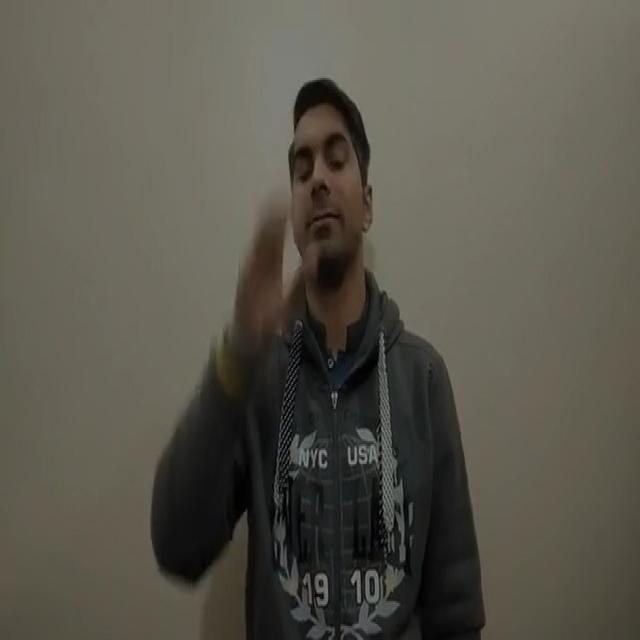drink: (238, 206, 324, 360)
